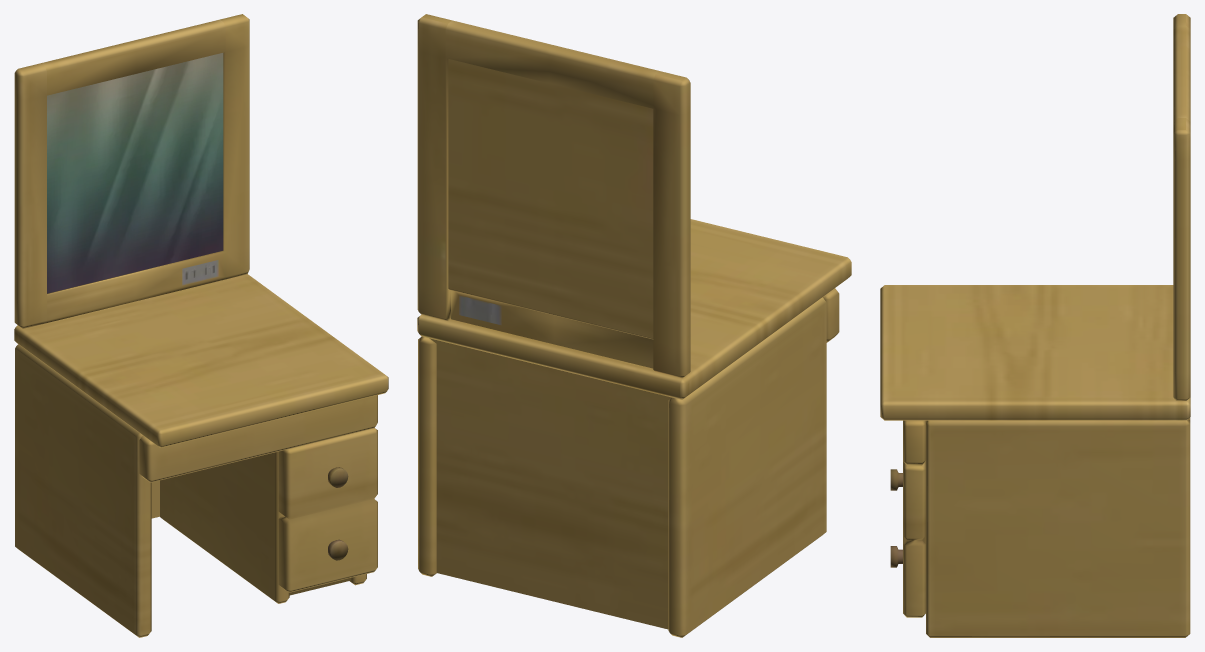
3 renders of one model, left to right at view 1: azimuth 30°, elevation 25°; view 2: azimuth 150°, elevation 25°; view 3: azimuth 270°, elevation 25°, orthographic. The views are drawn at different scales.
Bounding box in the file's own units: 7.97 × 15.83 × 8.76.
2 materials, 2 textured.
